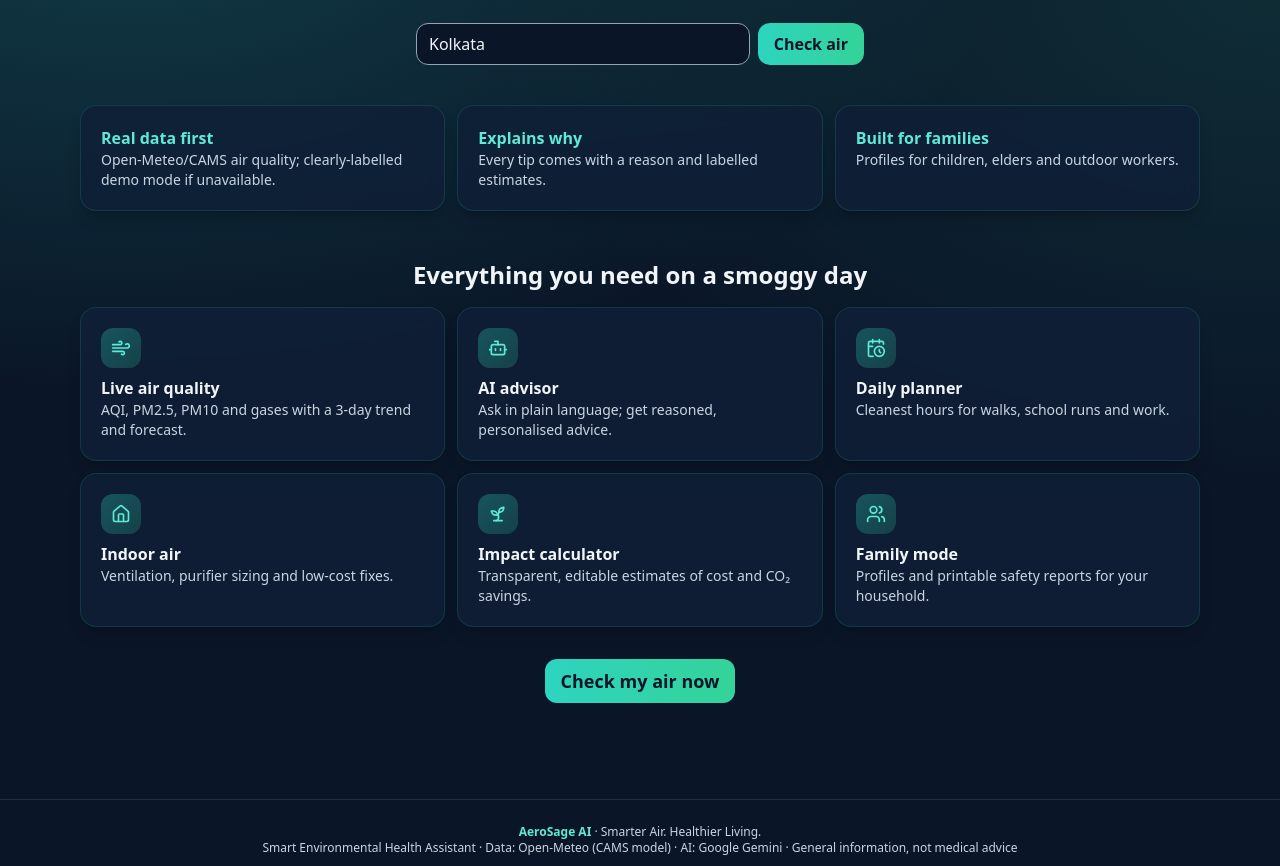
Test: air quality dashboard › provides a chart text alternative and a data table
This screenshot has width=1280, height=866.
(page scrolled)
Click the button "Check my air now" at (640, 681), box [545,659,736,703]
(page scrolled)
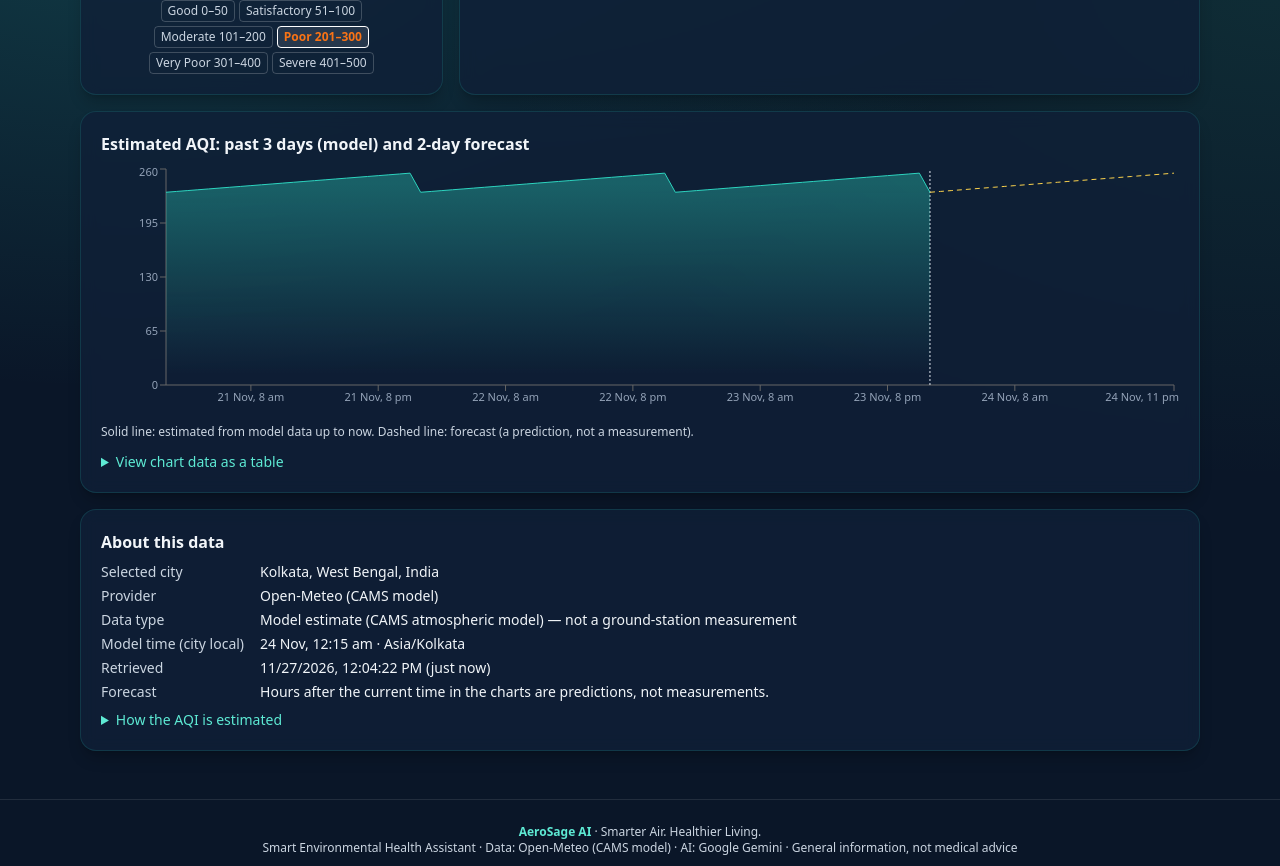
Result: the picture named "AQI trend from 2026-11-21 to 2026-11-24. Daily averages: 202" is shown at [101,164,1179,420]
Click the heading "View chart data as a table" at (200, 462), box [116,452,284,471]
(page scrolled)
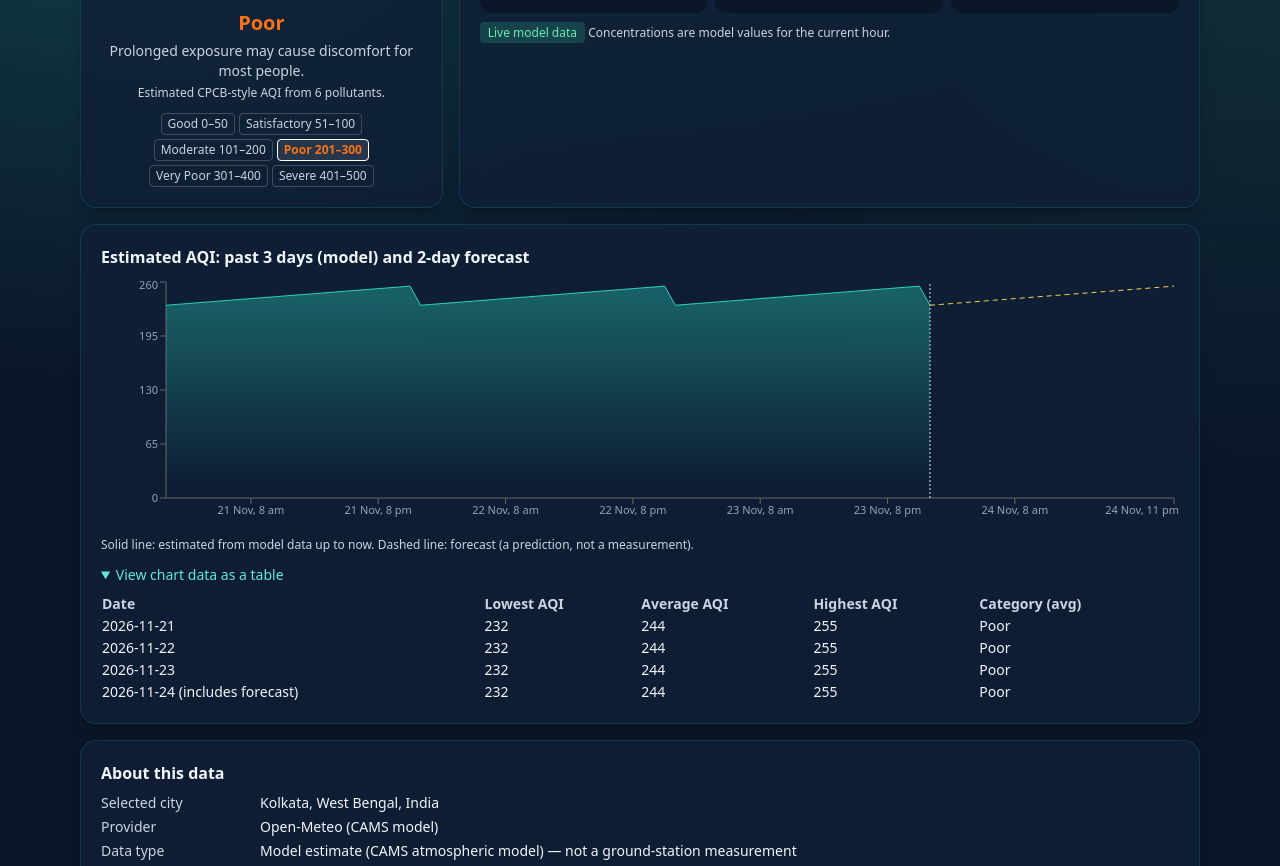
Result: the column heading "Average AQI" is shown at [640,593,812,615]
